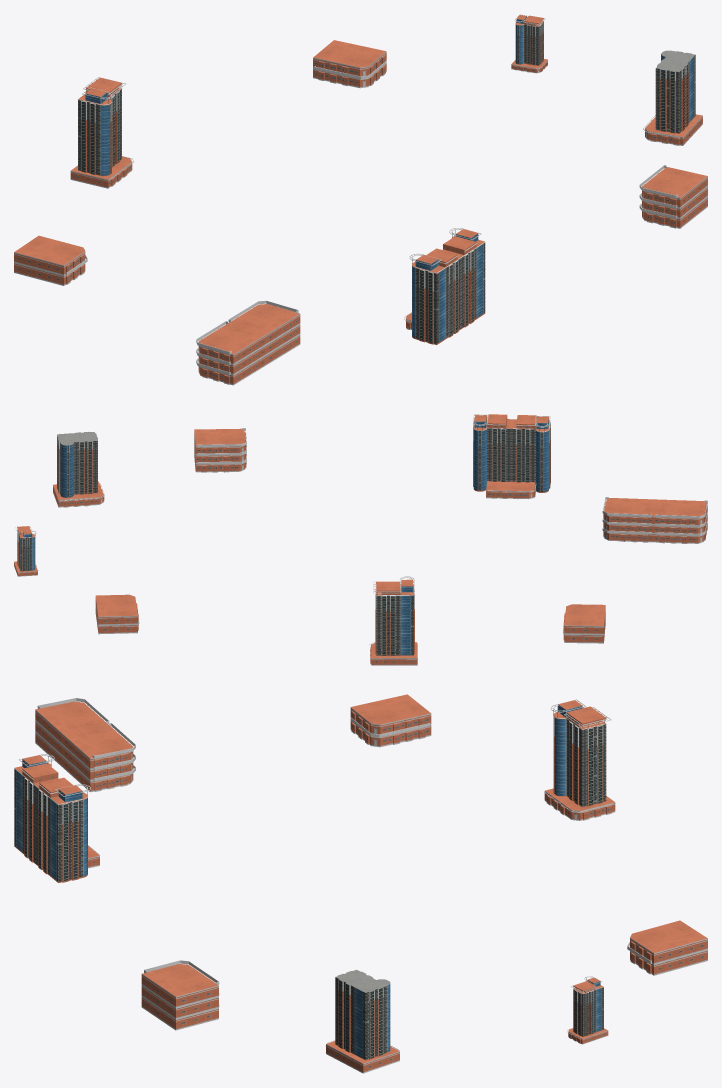
Rendered from Austin_track_building_city_01.dae.
3 renders of one model, top to bottom at view 1: azimuth 30°, elevation 25°; view 2: azimuth 150°, elevation 25°; view 3: azimuth 270°, elevation 25°, orthographic. The views are drawn at different scales.
Visible parts, largest first — view 1: building_city_01_05, building_city_01_06, building_city_01_01, building_city_01_02, building_city_01_04, building_city_01_03, building_city_01_07, building_city_01_08; view 2: building_city_01_05, building_city_01_06, building_city_01_01, building_city_01_02, building_city_01_04, building_city_01_03, building_city_01_07, building_city_01_08; view 3: building_city_01_05, building_city_01_06, building_city_01_01, building_city_01_02, building_city_01_04, building_city_01_07, building_city_01_03, building_city_01_08.
Part boxes in pixels (left/top/right/bottom): building_city_01_05: left=404, top=228, right=485, bottom=344; building_city_01_06: left=196, top=300, right=300, bottom=385; building_city_01_01: left=70, top=77, right=134, bottom=188; building_city_01_02: left=643, top=50, right=702, bottom=145; building_city_01_04: left=639, top=165, right=707, bottom=228; building_city_01_03: left=313, top=40, right=386, bottom=88; building_city_01_07: left=14, top=235, right=87, bottom=285; building_city_01_08: left=511, top=14, right=547, bottom=73; building_city_01_05: left=473, top=414, right=550, bottom=499; building_city_01_06: left=602, top=497, right=707, bottom=543; building_city_01_01: left=369, top=576, right=417, bottom=665; building_city_01_02: left=53, top=432, right=104, bottom=507; building_city_01_04: left=194, top=428, right=246, bottom=472; building_city_01_03: left=95, top=594, right=139, bottom=634; building_city_01_07: left=563, top=604, right=605, bottom=643; building_city_01_08: left=14, top=526, right=38, bottom=576; building_city_01_05: left=14, top=754, right=99, bottom=882; building_city_01_06: left=35, top=698, right=135, bottom=792; building_city_01_01: left=544, top=699, right=615, bottom=820; building_city_01_02: left=326, top=969, right=399, bottom=1073; building_city_01_04: left=141, top=960, right=219, bottom=1030; building_city_01_07: left=350, top=694, right=431, bottom=747; building_city_01_03: left=627, top=920, right=707, bottom=975; building_city_01_08: left=567, top=976, right=608, bottom=1044.
Bounding box in the file's own units: 86.41 × 71.04 × 10.81.
2 materials, 2 textured.
